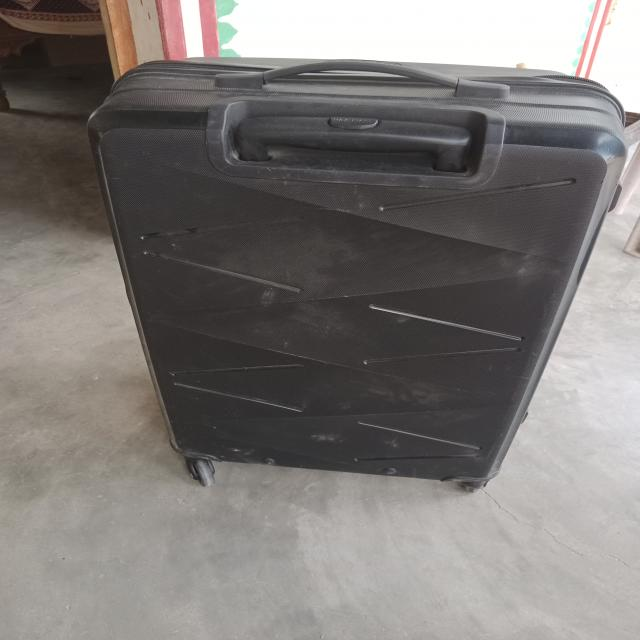suitcaserotation: (83, 54, 632, 494)
